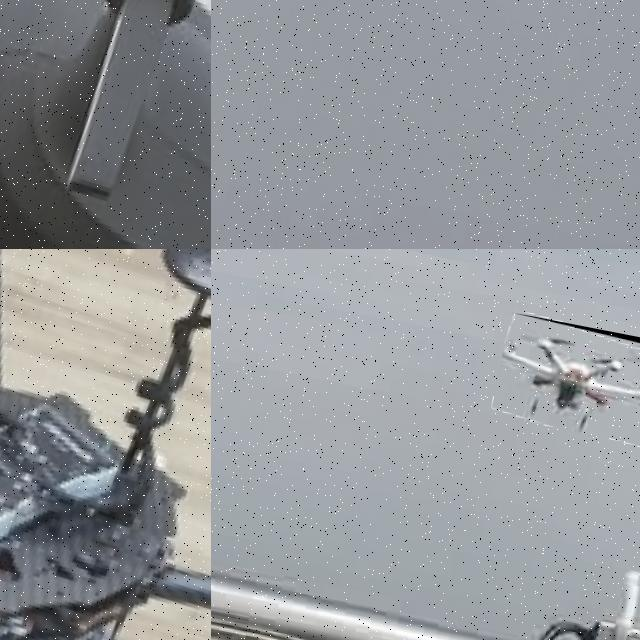0: (491, 312, 640, 448)
drone: (0, 249, 211, 640), (0, 0, 211, 249)
